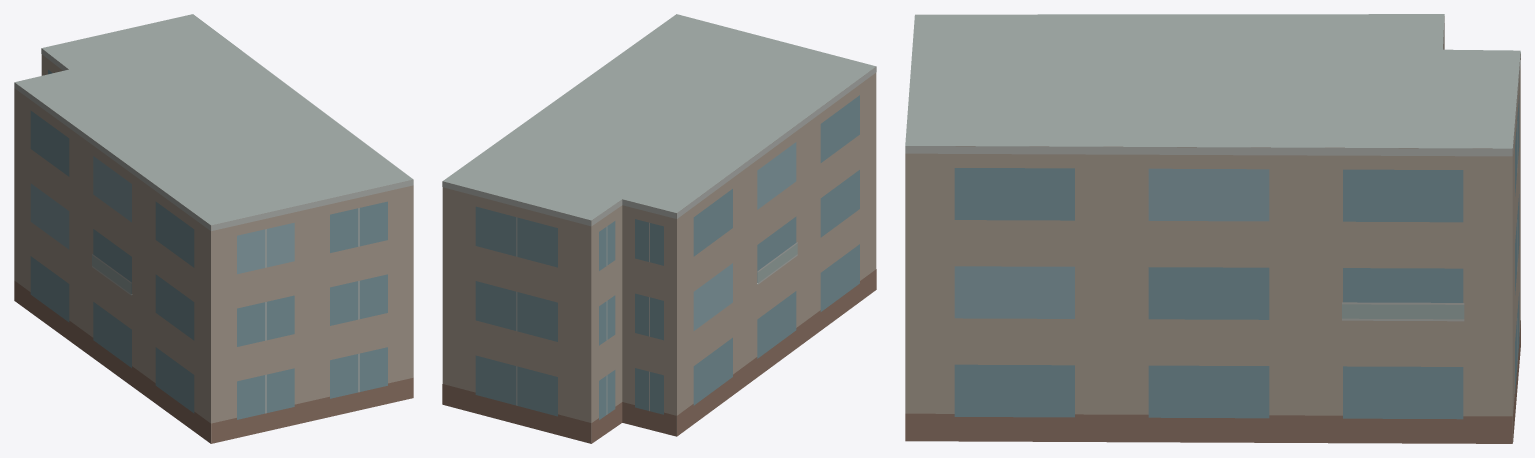
The model's file is survey-upis-32996539.glb.
3 views of the same model, side by side, from view 1: azimuth 30°, elevation 25°; view 2: azimuth 150°, elevation 25°; view 3: azimuth 270°, elevation 25° (orthographic). The views are drawn at different scales.
Visible parts, largest first — view 1: survey-upis-32996539.tmp; view 2: survey-upis-32996539.tmp; view 3: survey-upis-32996539.tmp.
Part boxes in pixels (x1,y1,x2,y2): survey-upis-32996539.tmp: (14,14,413,443); survey-upis-32996539.tmp: (442,14,876,443); survey-upis-32996539.tmp: (905,14,1520,443).
Bounding box in the file's own units: 8.99 × 9.15 × 17.3.
